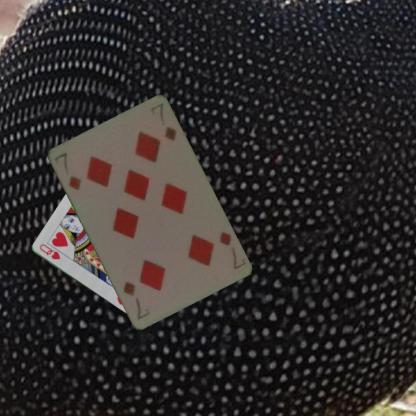7d: (51, 149, 82, 191), (216, 229, 247, 271)
Qh: (36, 242, 62, 261)
